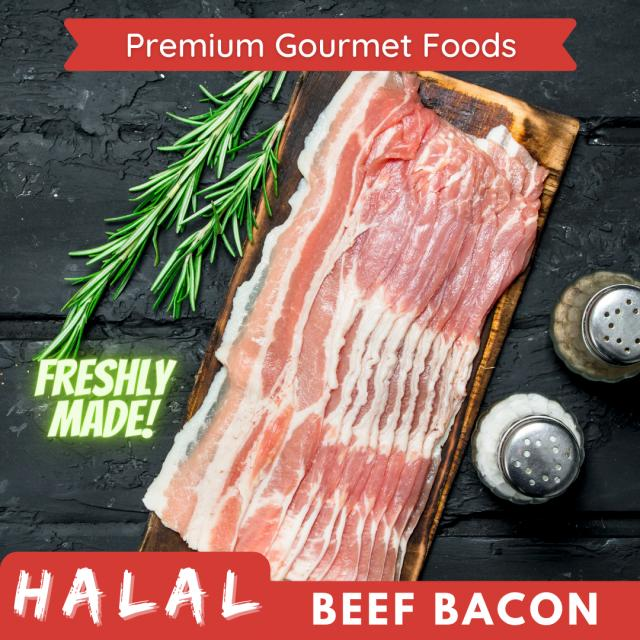bacon: (217, 73, 520, 586)
